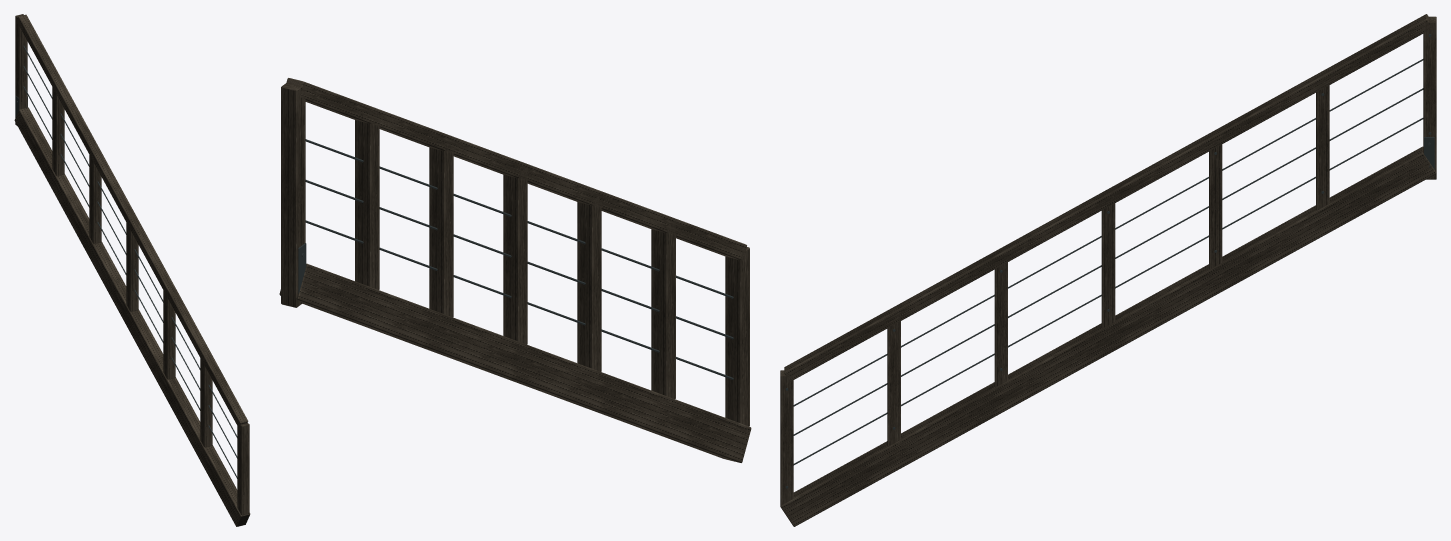
3 renders of one model, left to right at view 1: azimuth 30°, elevation 25°; view 2: azimuth 150°, elevation 25°; view 3: azimuth 270°, elevation 25°, orthographic. The views are drawn at different scales.
Visible parts, largest first — view 1: Mesh_dark, Mesh_iron; view 2: Mesh_dark, Mesh_iron; view 3: Mesh_dark, Mesh_iron.
Part boxes in pixels (x1,y1,x2,y2): Mesh_dark: (14, 14, 250, 526); Mesh_iron: (15, 45, 237, 478); Mesh_dark: (279, 78, 751, 462); Mesh_iron: (298, 139, 733, 379); Mesh_dark: (780, 14, 1436, 526); Mesh_iron: (785, 34, 1434, 488).
Bounding box in the file's own units: 0.12 × 4.14 × 4.86.
2 materials, 1 textured.
